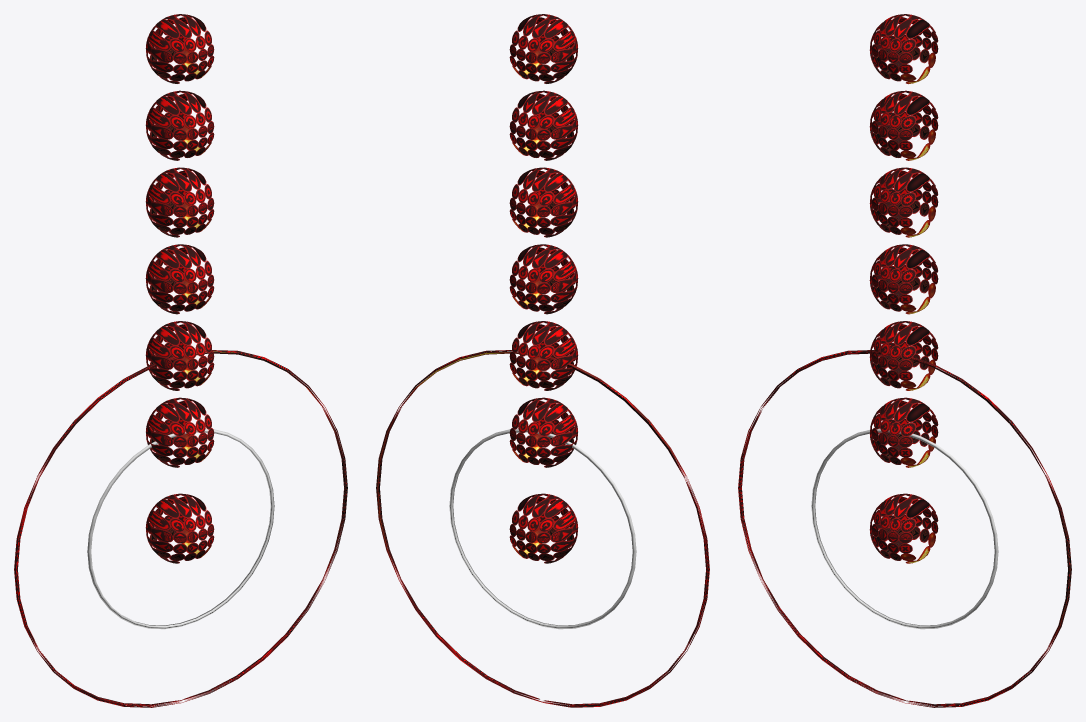
3 views of the same model, side by side, from view 1: azimuth 30°, elevation 25°; view 2: azimuth 150°, elevation 25°; view 3: azimuth 330°, elevation 25° (orthographic).
Parts seen in each view (by area): view 1: NnodeSphere019, Torus003; view 2: NnodeSphere019, Torus003; view 3: NnodeSphere019, Torus003.
Boxes of the visible parts, <box> form: NnodeSphere019: <box>14,14,347,707</box>; Torus003: <box>87,428,274,629</box>; NnodeSphere019: <box>376,14,709,707</box>; Torus003: <box>449,428,636,629</box>; NnodeSphere019: <box>738,14,1071,707</box>; Torus003: <box>811,428,998,629</box>.
Size of the model in its own units: 546 by 1073 by 100.
Materials: 1 (1 with a texture image).
